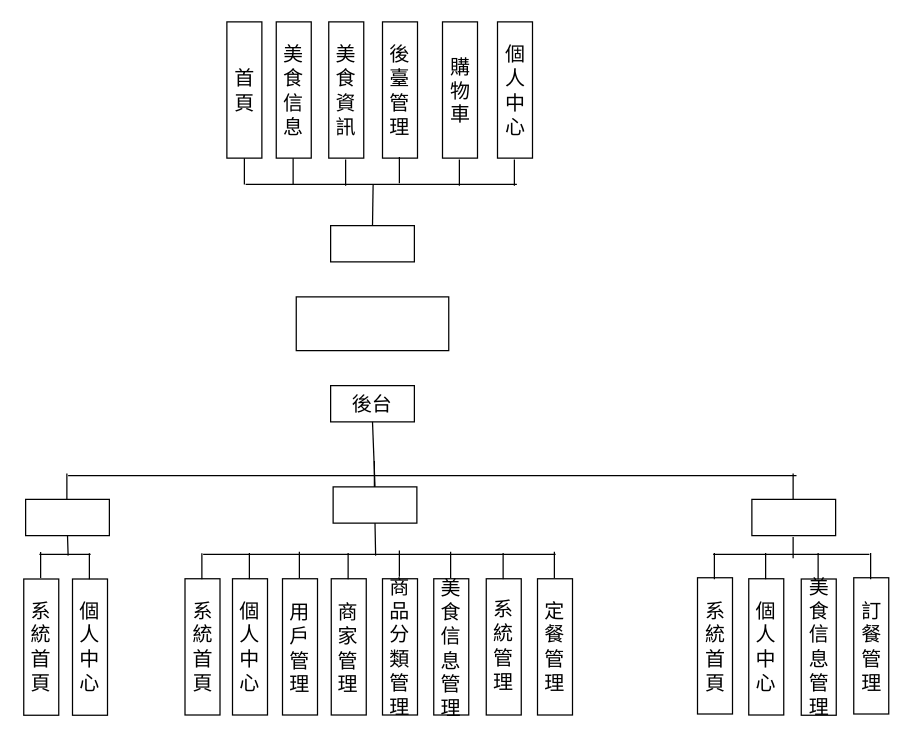
The diagram is 911 pixels wide and 743 high, and some of its shapes have lost their labels. The centre of each missing label's shape, as x and y in pixels:
"前台" goes at point (371, 243).
"商家" goes at point (793, 517).
"外賣訂餐系統" goes at point (372, 323).
"用戶" goes at point (66, 517).
"管理員" goes at point (374, 504).
